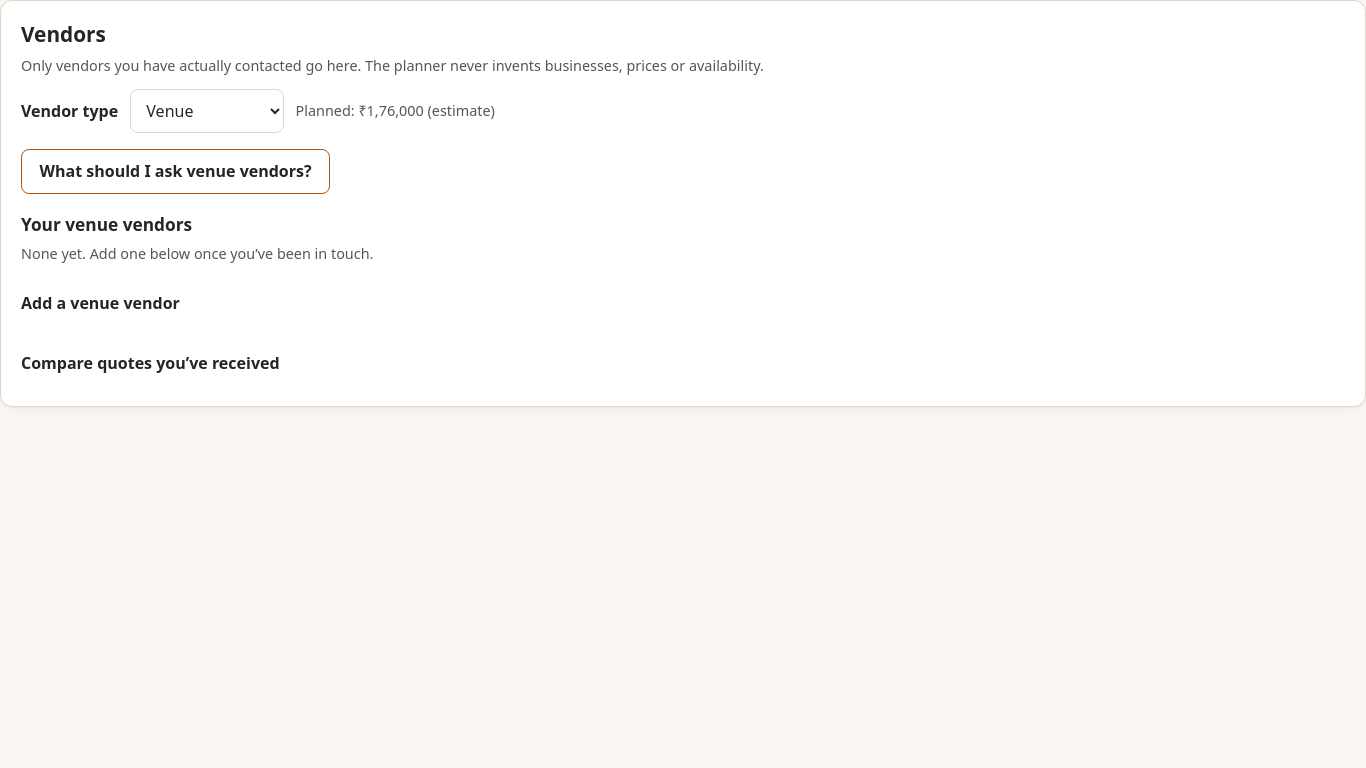
Scenario: VendorPanel › comparing quotes › offers manual entry when quotes can't be read
Select "Catering" in the dropdown labelled "Vendor type" at (207, 111), box [130,89,284,133]
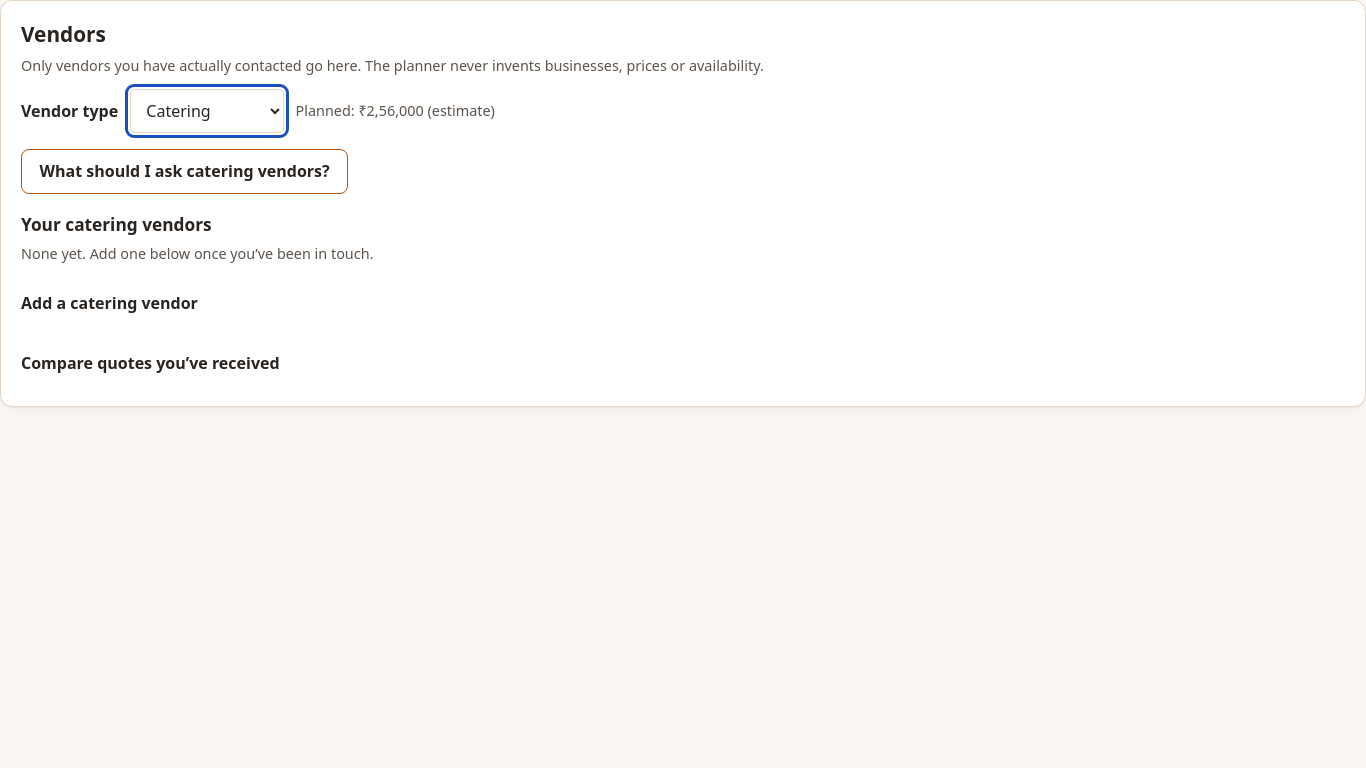
Click the heading "Compare quotes you’ve received" at (150, 363), box [21,352,280,374]
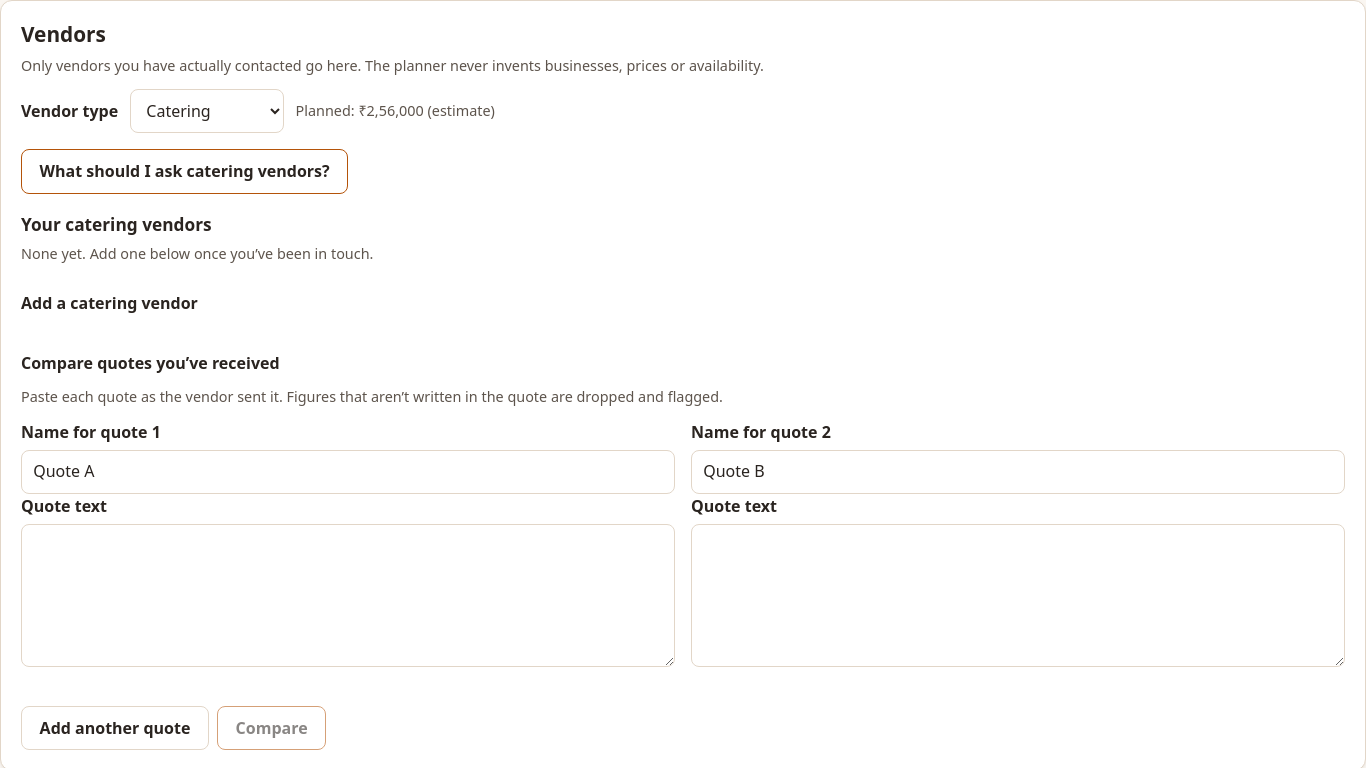
Type "Rs 1,250 per plate for 200 guests" into the 1st text box labelled "Quote text" at (348, 595), box [21,524,675,667]
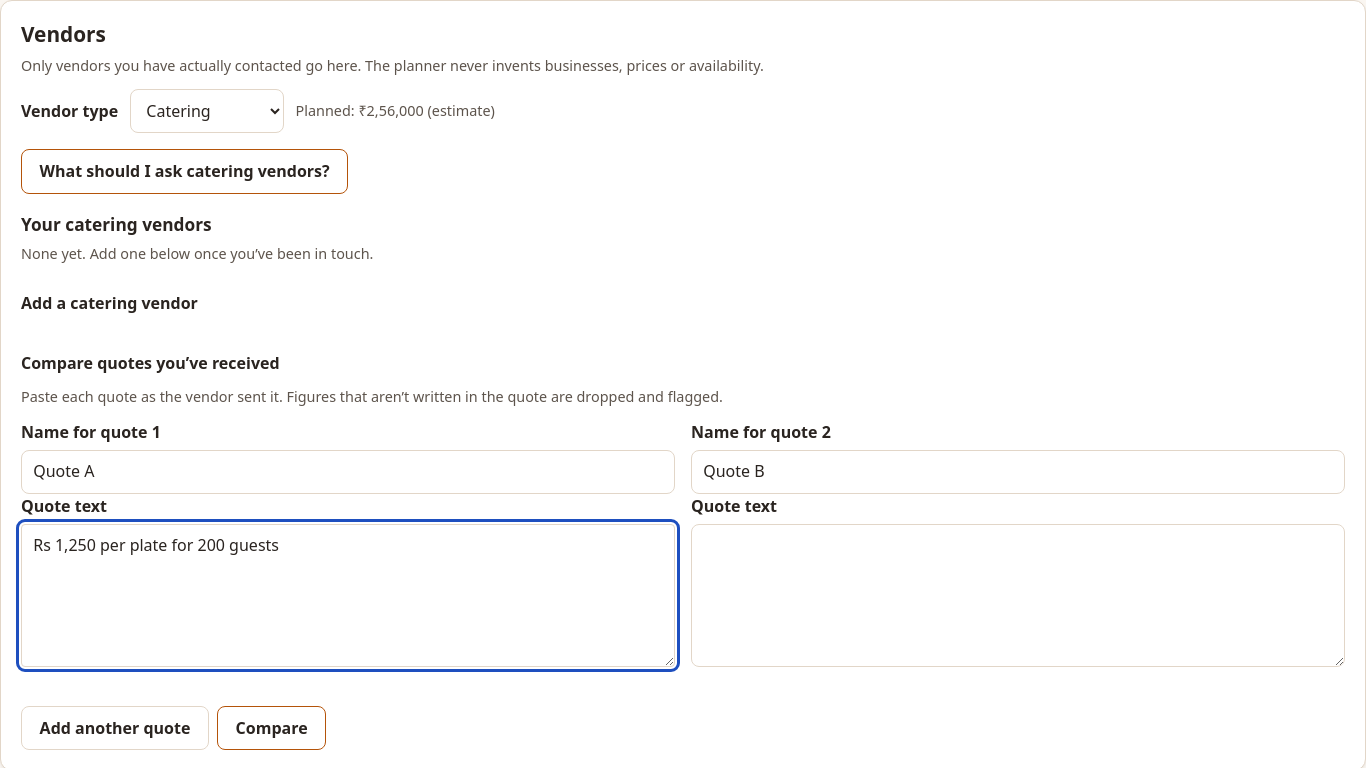
Click the button "Compare" at (272, 728), box [217,706,326,750]
(page scrolled)
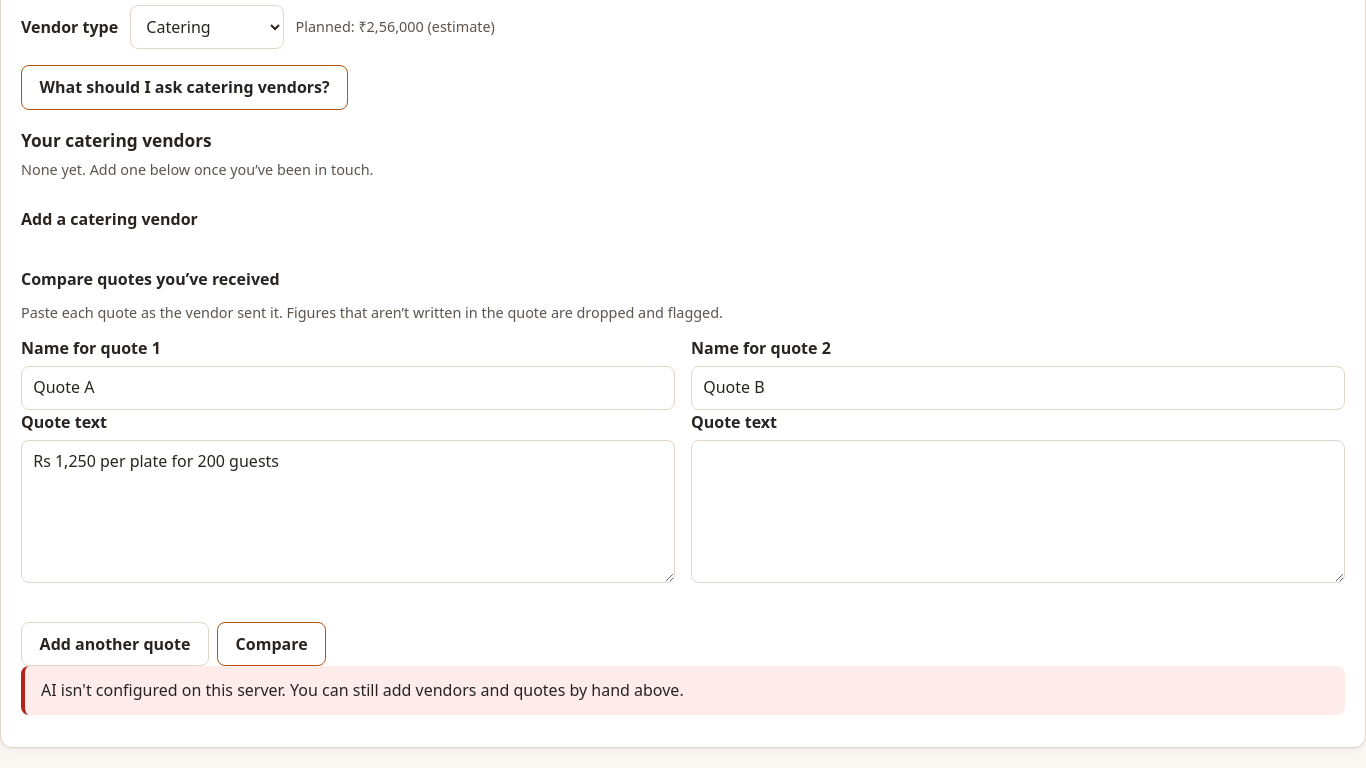
Expected: the message shows "AI isn't configured on this server. You can still add vendors and quotes by hand above.", [21,666,1345,715]
